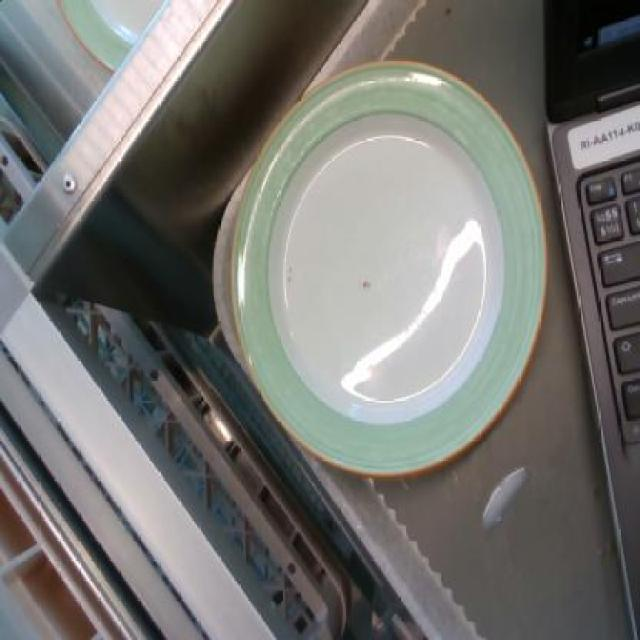plate: (232, 57, 551, 480)
